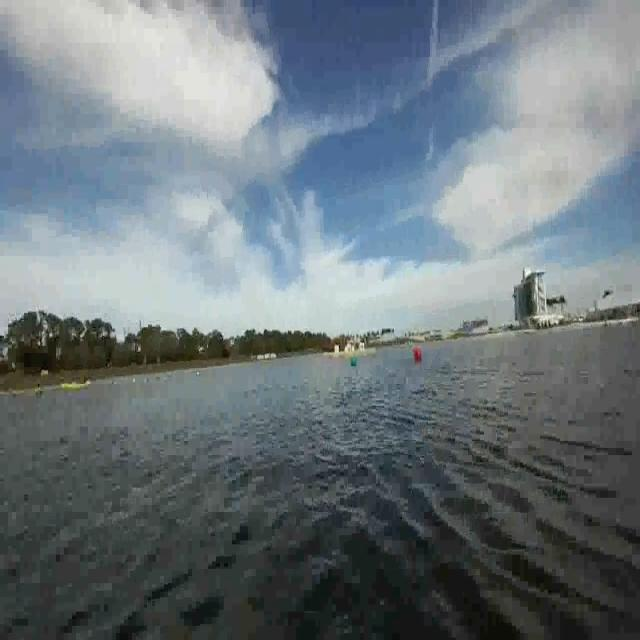green-buoy: (351, 356, 358, 367)
red-buoy: (413, 348, 422, 360)
